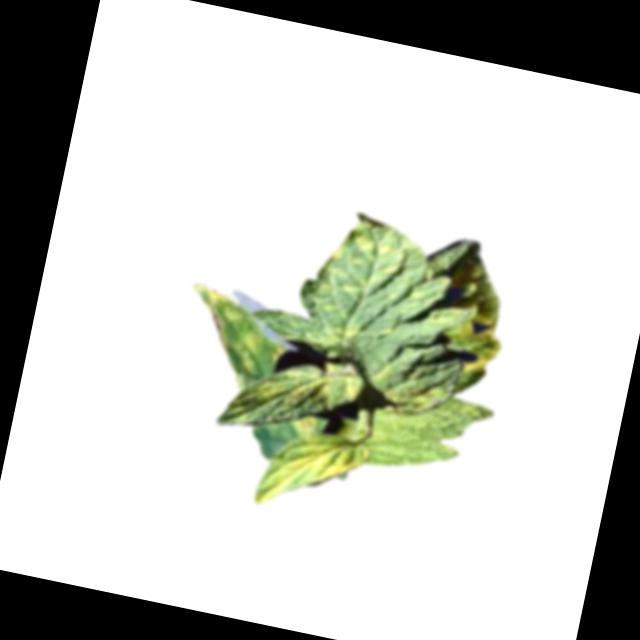Leaf_Mold: (169, 280, 297, 399), (251, 421, 367, 523), (258, 359, 362, 423), (327, 209, 415, 280), (446, 307, 507, 379)
